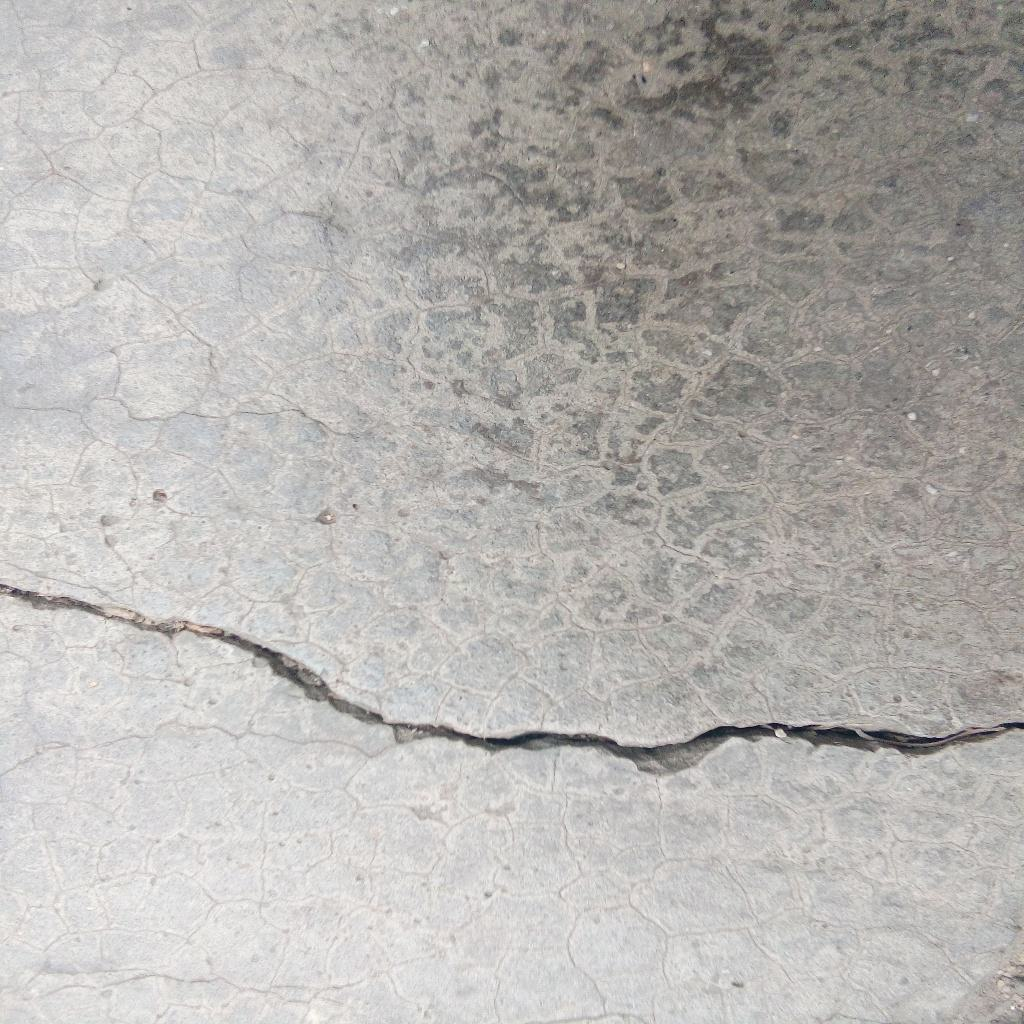Crack: (1, 579, 1024, 778)
